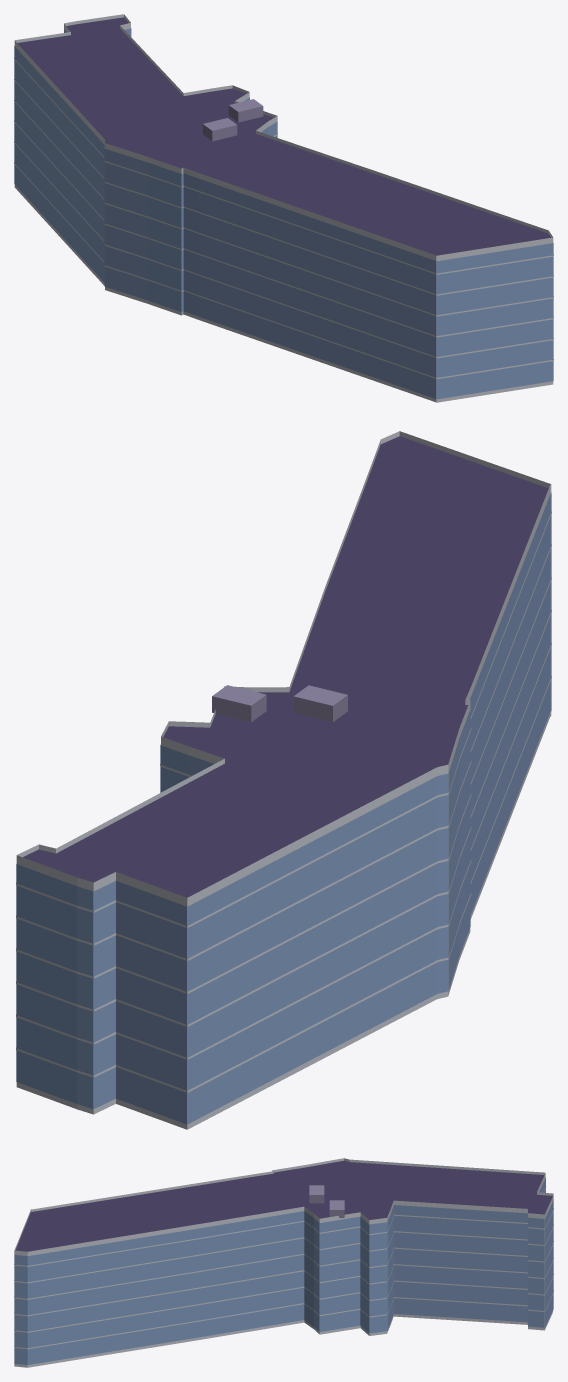
The model's file is b-102-day.glb.
The picture shows the model from 3 angles, top to bottom: view 1: azimuth 30°, elevation 25°; view 2: azimuth 150°, elevation 25°; view 3: azimuth 270°, elevation 25°; orthographic projection. The views are drawn at different scales.
Parts seen in each view (by area): view 1: campus/b-102-day-0; view 2: campus/b-102-day-0; view 3: campus/b-102-day-0.
Part boxes in pixels (<box>): campus/b-102-day-0: <box>14,14,553,402</box>; campus/b-102-day-0: <box>16,431,551,1129</box>; campus/b-102-day-0: <box>14,1158,553,1367</box>.
Size of the model in its own units: 44.05 by 26.6 by 107.
